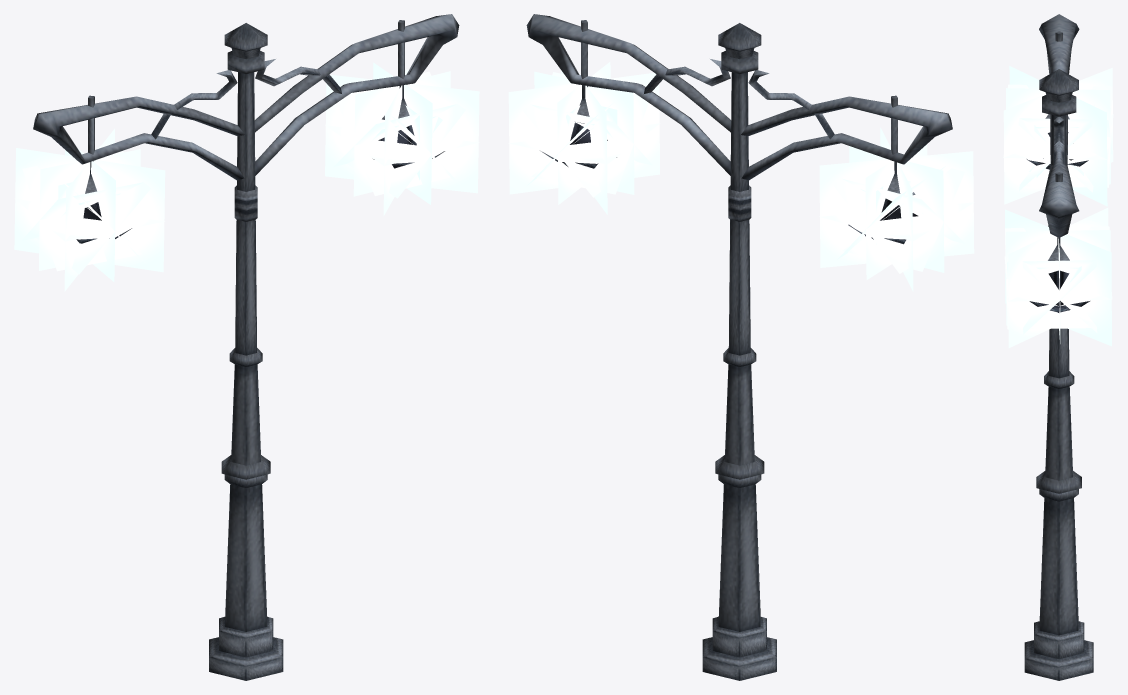
Rendered from a_selamp01.glb.
The picture shows the model from 3 angles, left to right: view 1: azimuth 30°, elevation 25°; view 2: azimuth 150°, elevation 25°; view 3: azimuth 270°, elevation 25°; orthographic projection. The views are drawn at different scales.
Parts seen in each view (by area): view 1: a_selamp01; view 2: a_selamp01; view 3: a_selamp01.
Boxes of the visible parts, x1,y1,x2,y2 form: a_selamp01: [14, 14, 479, 680]; a_selamp01: [508, 14, 974, 680]; a_selamp01: [1003, 14, 1113, 680].
Size of the model in its own units: 2.27 by 3.26 by 0.5475.
4 materials, 4 textured.
